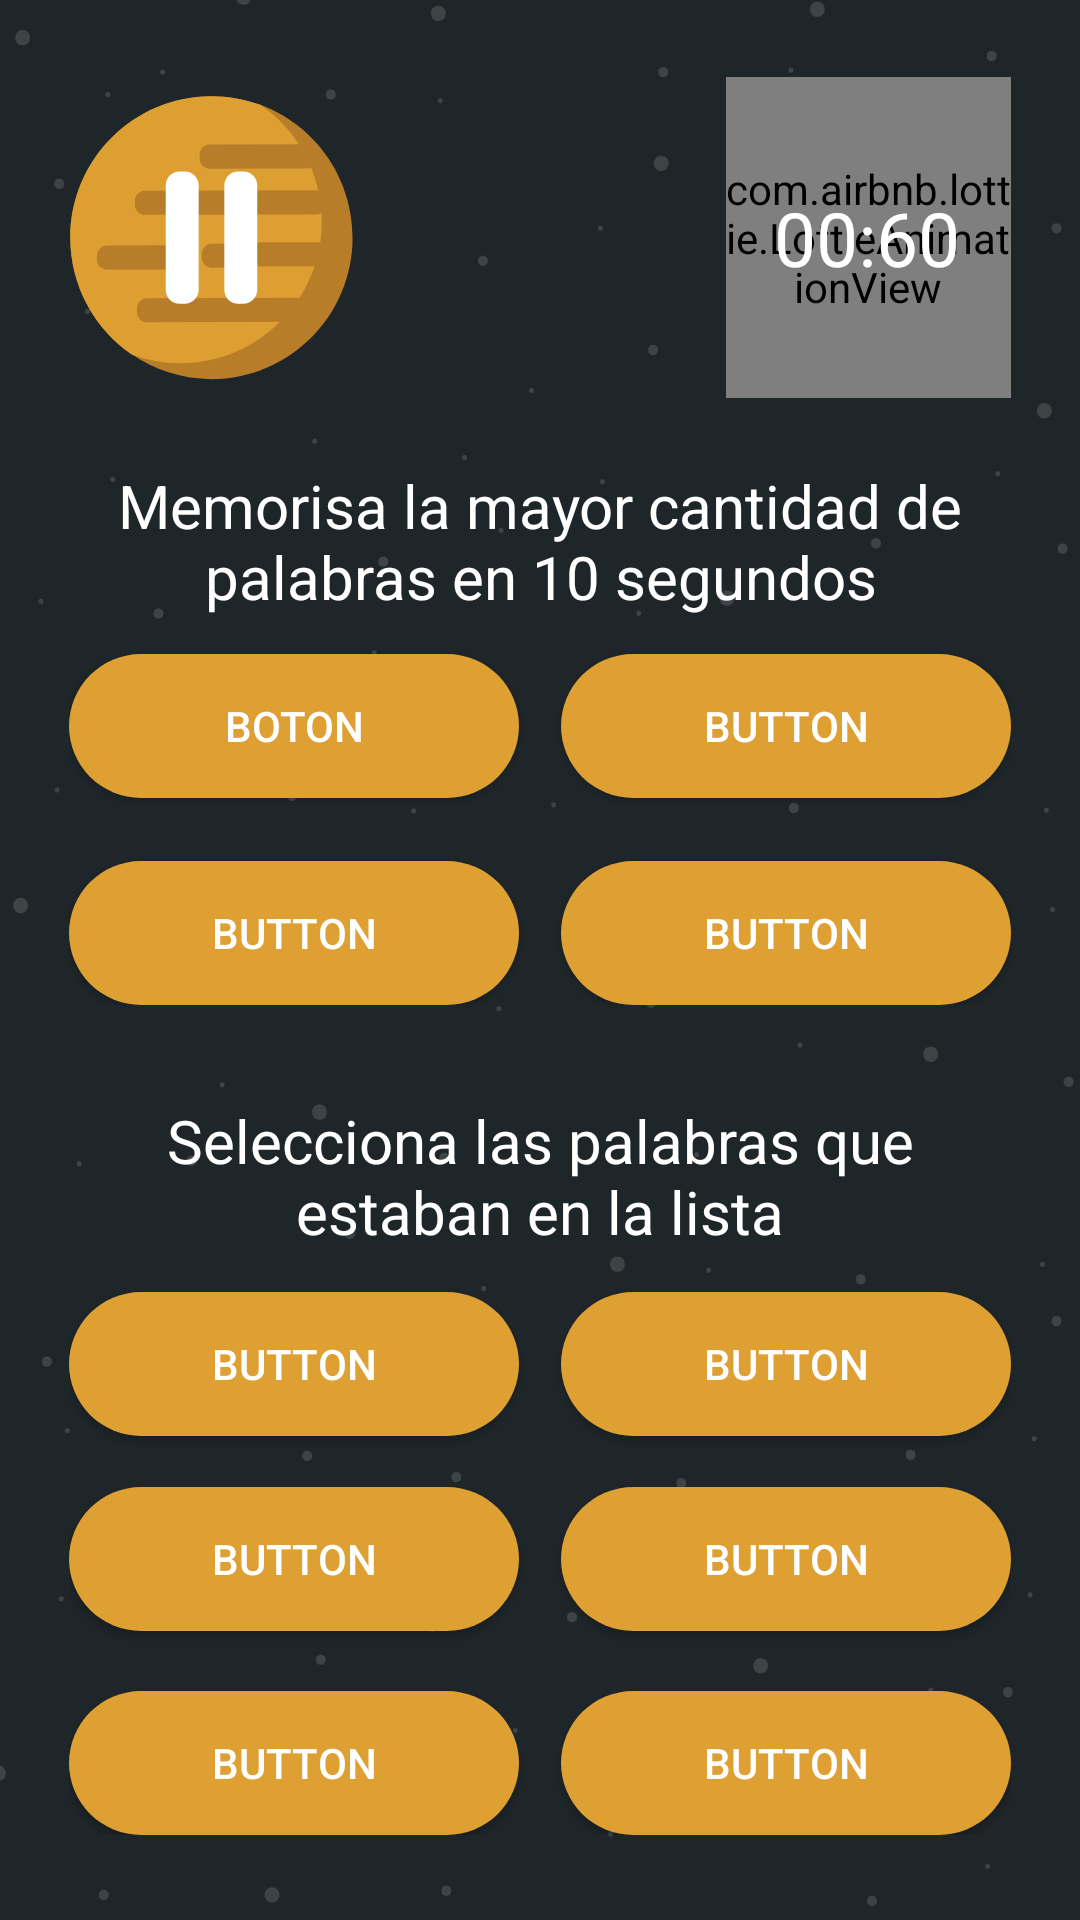

Locate icon controls on the screen. Image size 1080 × 1920, boxes as (x1, y1, x2, y2).
pausa: (70, 90, 353, 380)
